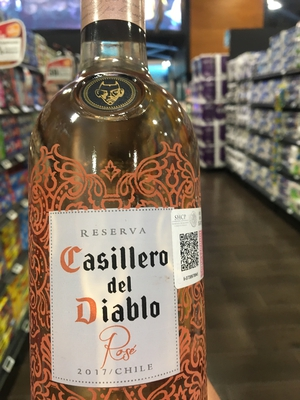casillero del diablo rose: (22, 9, 212, 394)
